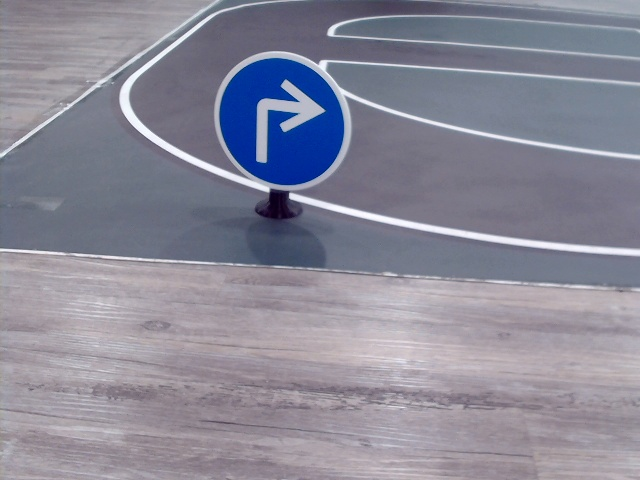turn_right: (246, 73, 323, 161)
